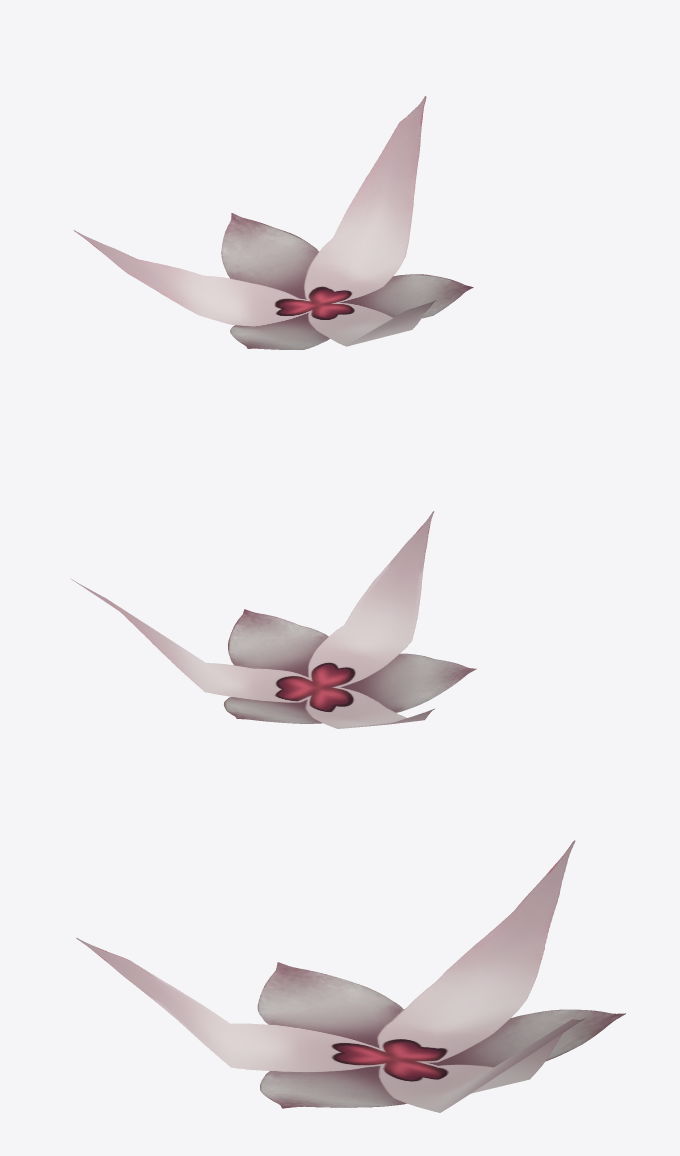
File: environment_evilplant_flower.fbx
The picture shows the model from 3 angles, top to bottom: view 1: azimuth 30°, elevation 25°; view 2: azimuth 150°, elevation 25°; view 3: azimuth 270°, elevation 25°; orthographic projection. The views are drawn at different scales.
Parts seen in each view (by area): view 1: polySurface5; view 2: polySurface5; view 3: polySurface5.
Part boxes in pixels (x1=…): polySurface5: x1=73, y1=96, x2=473, y2=349; polySurface5: x1=70, y1=511, x2=476, y2=728; polySurface5: x1=76, y1=840, x2=625, y2=1112.
Bounding box in the file's own units: 108 × 43.68 × 105.
